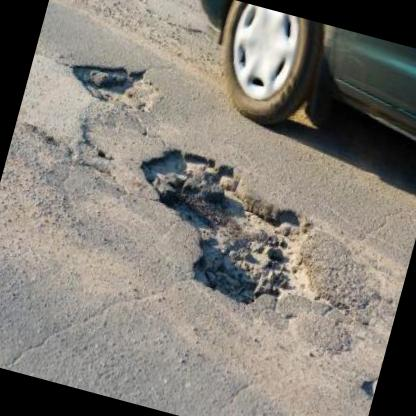pothole: (110, 132, 344, 320), (63, 47, 165, 114)
